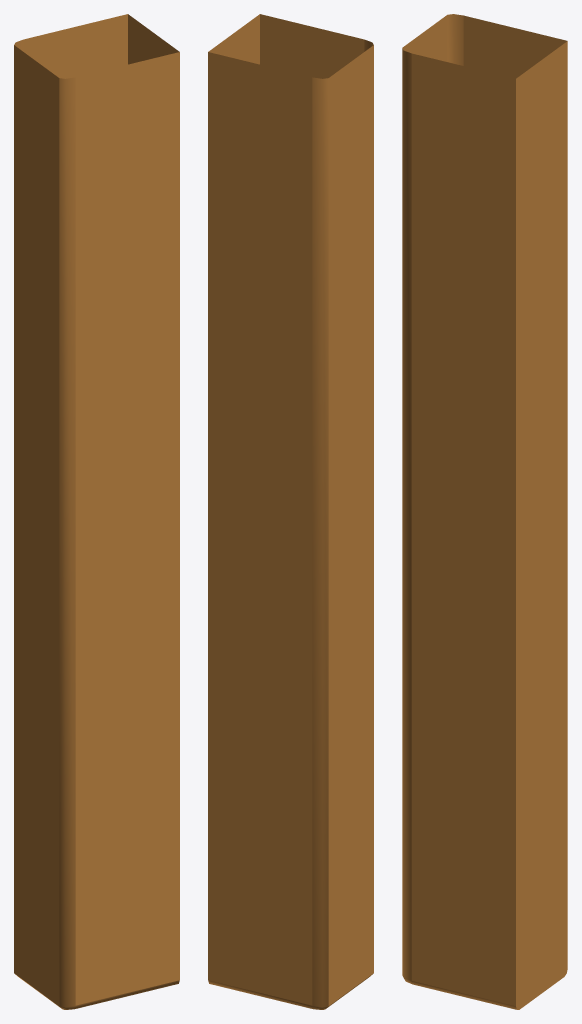
Rendered from Barn@Beam.fbx.
The picture shows the model from 3 angles, left to right: view 1: azimuth 30°, elevation 25°; view 2: azimuth 150°, elevation 25°; view 3: azimuth 330°, elevation 25°; orthographic projection.
Parts seen in each view (by area): view 1: Barn_chicken_2; view 2: Barn_chicken_2; view 3: Barn_chicken_2.
Boxes of the visible parts, bbox=[...] form: Barn_chicken_2: bbox=[14, 14, 179, 1009]; Barn_chicken_2: bbox=[208, 14, 373, 1009]; Barn_chicken_2: bbox=[402, 14, 567, 1009].
Size of the model in its own units: 20.14 by 153 by 15.43.
